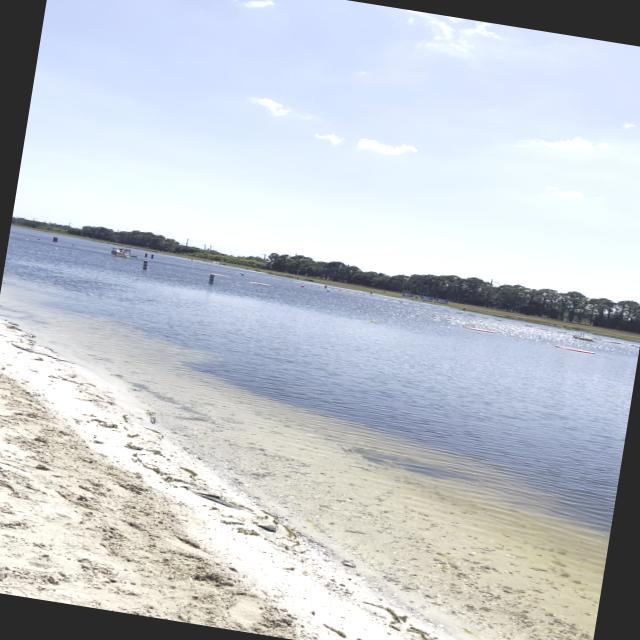buoy: (366, 318, 382, 324), (324, 288, 333, 294), (298, 285, 306, 289)
